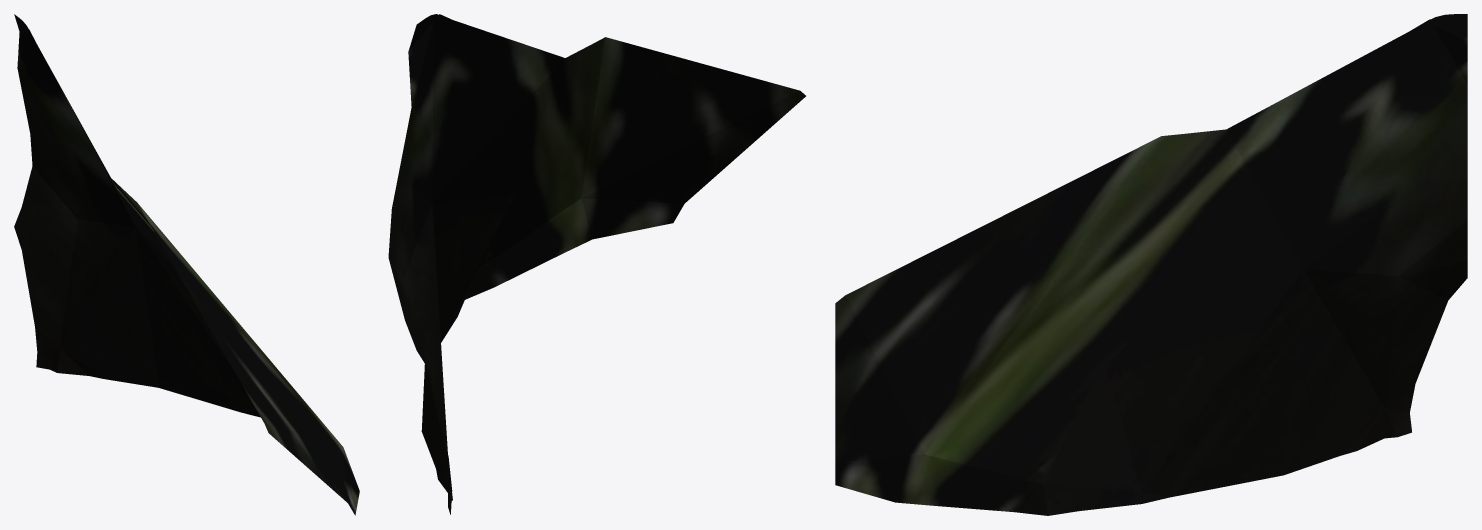
3 renders of one model, left to right at view 1: azimuth 30°, elevation 25°; view 2: azimuth 150°, elevation 25°; view 3: azimuth 270°, elevation 25°, orthographic. The views are drawn at different scales.
Size of the model in its own units: 0.2615 by 0.6119 by 0.8374.
Materials: 2 (2 with a texture image).
